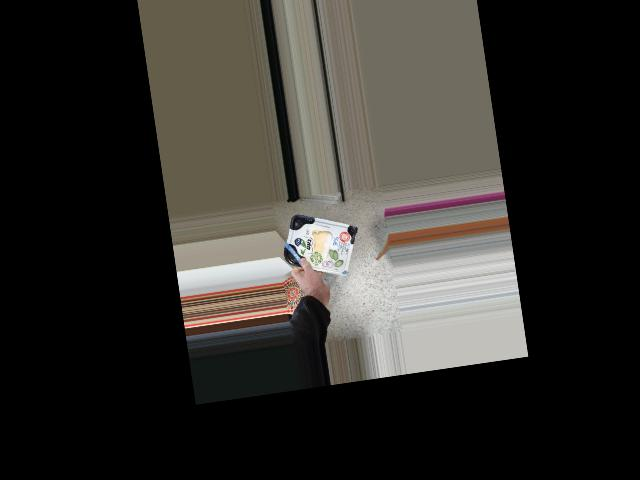cheese: (287, 215, 355, 275)
